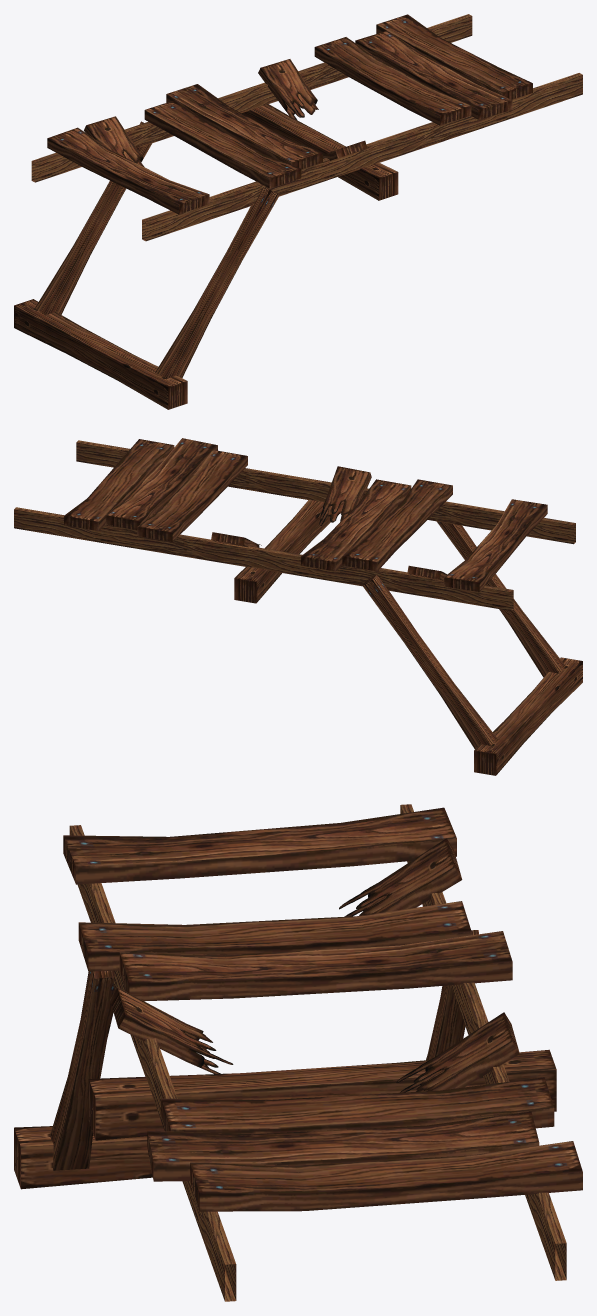
The model's file is OVERHILL_A_01_BRIDGE_BEAMS.fbx.
3 views of the same model, one above another, from view 1: azimuth 30°, elevation 25°; view 2: azimuth 150°, elevation 25°; view 3: azimuth 270°, elevation 25° (orthographic). The views are drawn at different scales.
Visible parts, largest first — view 1: OVERHILL_A_01_BRIDGE_BEAMS; view 2: OVERHILL_A_01_BRIDGE_BEAMS; view 3: OVERHILL_A_01_BRIDGE_BEAMS.
Part boxes in pixels (box(x1,y1,x2,y2)): OVERHILL_A_01_BRIDGE_BEAMS: box(14, 14, 582, 409); OVERHILL_A_01_BRIDGE_BEAMS: box(14, 438, 582, 775); OVERHILL_A_01_BRIDGE_BEAMS: box(14, 804, 582, 1301).
Size of the model in its own units: 66711 by 24418 by 34787.
Materials: 5 (5 with a texture image).
